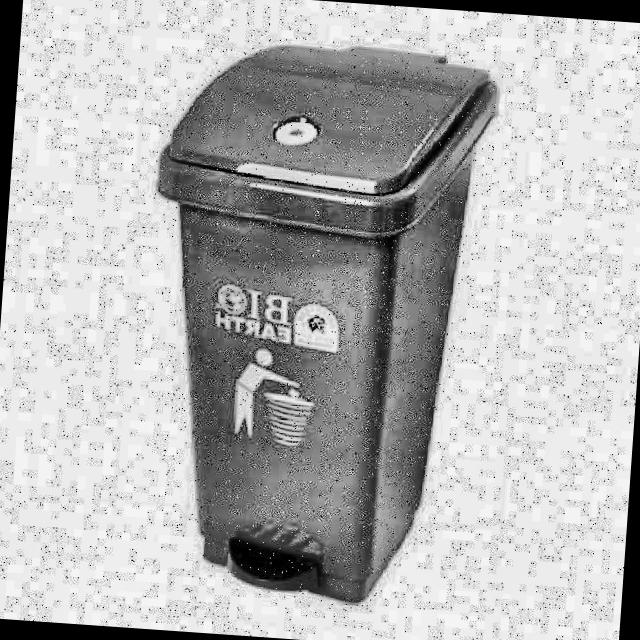Dustbin: (109, 17, 508, 629)
